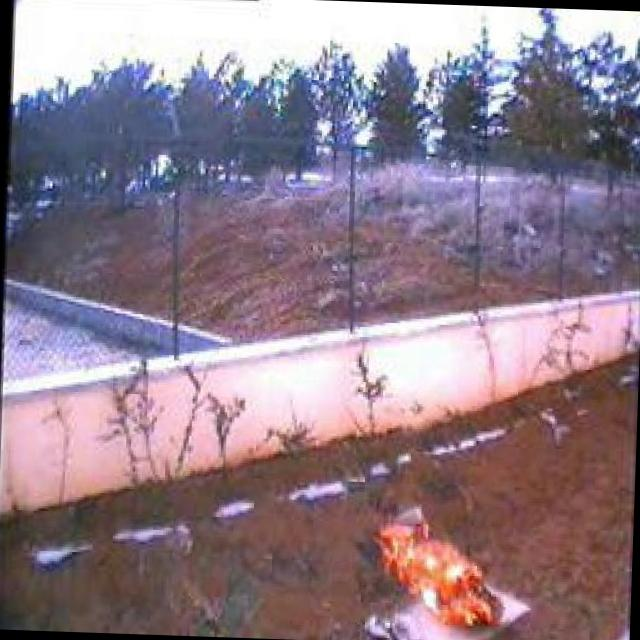Fire: (379, 524, 506, 634)
